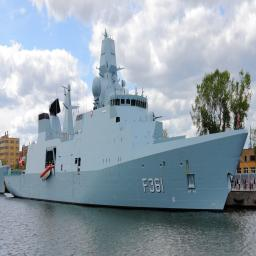Fragata: (4, 26, 250, 219)
